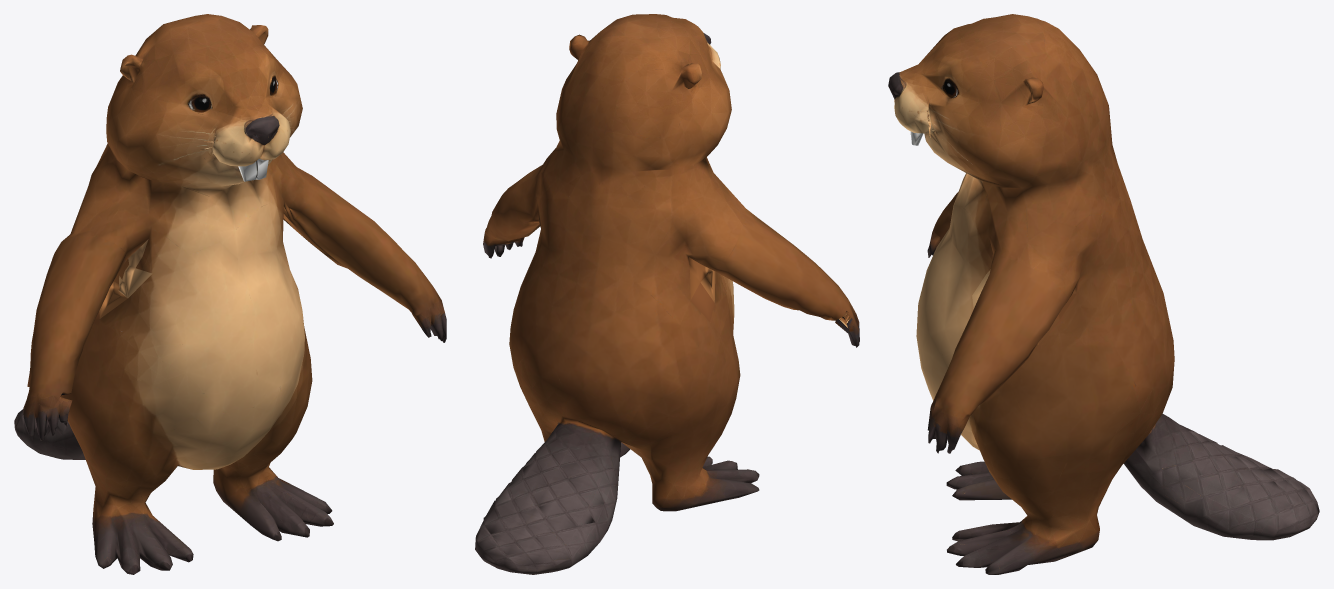
The model's file is beaver-arms.glb.
3 renders of one model, left to right at view 1: azimuth 30°, elevation 25°; view 2: azimuth 150°, elevation 25°; view 3: azimuth 270°, elevation 25°, orthographic. The views are drawn at different scales.
Parts seen in each view (by area): view 1: beaver; view 2: beaver; view 3: beaver.
Part boxes in pixels (x1,y1,x2,y2): beaver: (14, 14, 446, 574); beaver: (475, 14, 859, 574); beaver: (888, 14, 1319, 574).
Bounding box in the file's own units: 1.65 × 1.9 × 1.5.
Materials: 1 (1 with a texture image).
